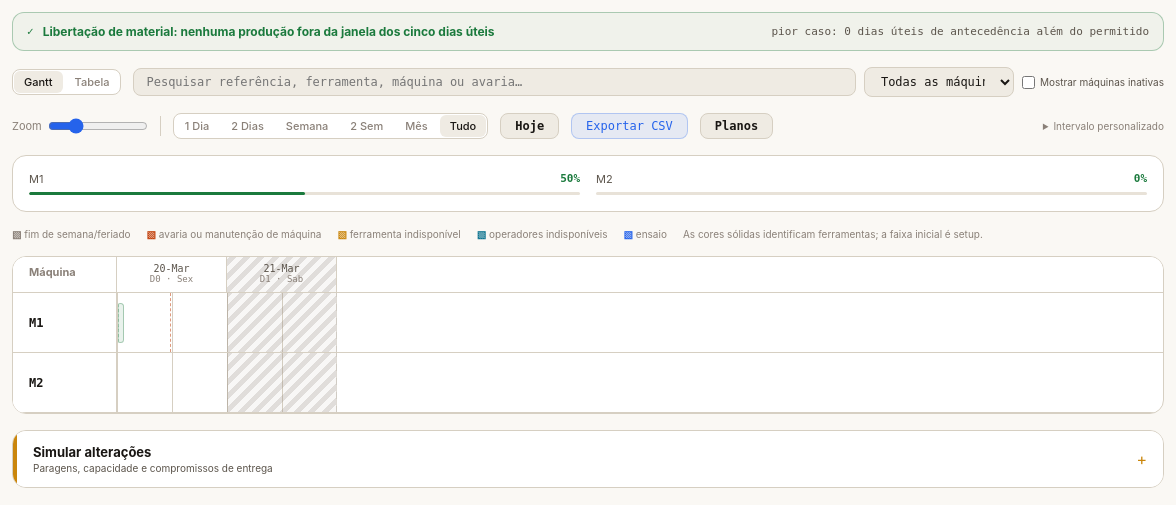
Test: GanttPage › mostra apenas a lane escolhida sem perder o fim de semana
The width and height of the screenshot is (1176, 505).
Expected: the button "Gantt" is shown, [14,71,62,93]
Select "M1" in the dropdown named "Filtrar o plano por máquina" at {"x": 939, "y": 82}, box [864,67,1014,97]
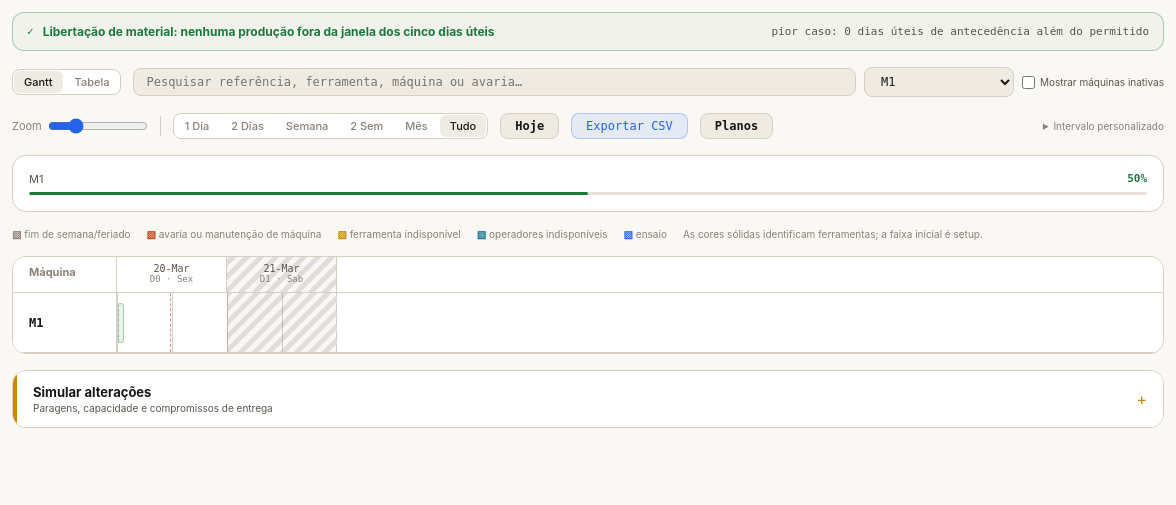
Expected: the number of elements with test id "machine-timeline-lane" is 1, [117,293,1163,353]
